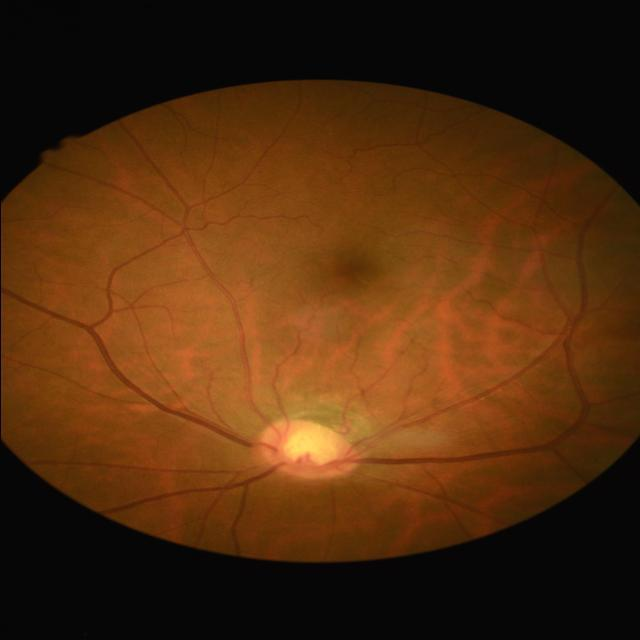cup: (277, 426, 347, 472)
disk: (258, 420, 358, 482)
